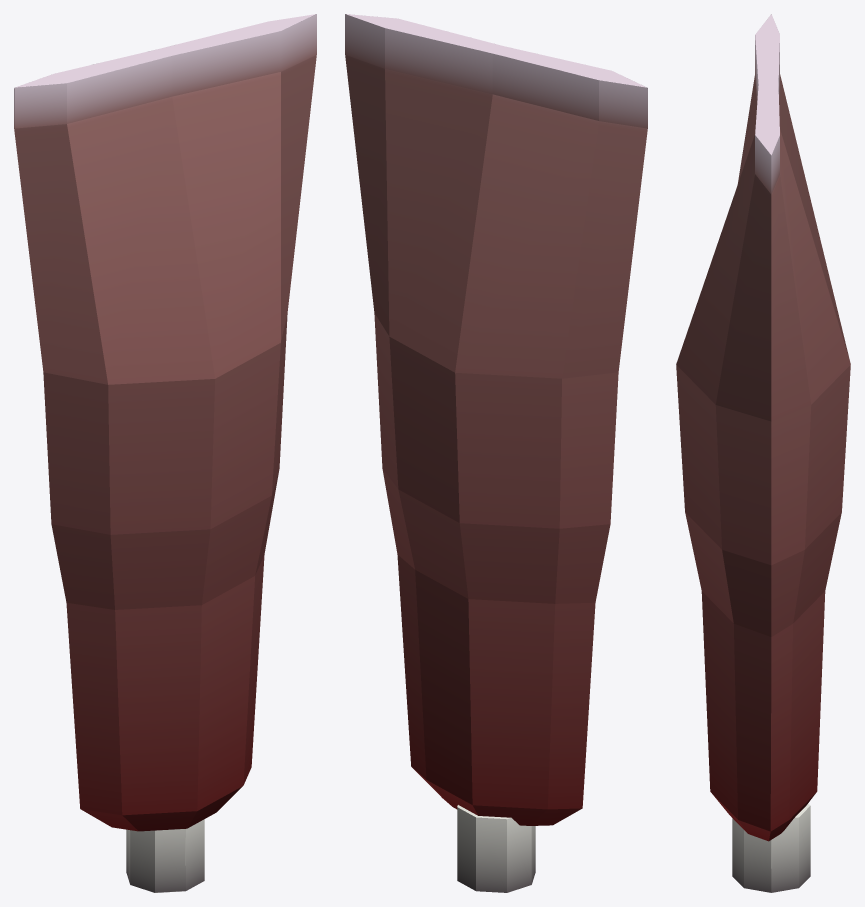
Rendered from Toothpaste.glb.
3 views of the same model, side by side, from view 1: azimuth 30°, elevation 25°; view 2: azimuth 150°, elevation 25°; view 3: azimuth 270°, elevation 25° (orthographic). The views are drawn at different scales.
Visible parts, largest first — view 1: Cylinder, Cylinder.001; view 2: Cylinder, Cylinder.001; view 3: Cylinder, Cylinder.001.
Part boxes in pixels (x1=…): Cylinder: x1=14, y1=14, x2=316, y2=831; Cylinder.001: x1=126, y1=819, x2=204, y2=892; Cylinder: x1=345, y1=14, x2=647, y2=825; Cylinder.001: x1=457, y1=805, x2=535, y2=892; Cylinder: x1=676, y1=14, x2=850, y2=841; Cylinder.001: x1=732, y1=803, x2=810, y2=892.
Bounding box in the file's own units: 3.06 × 7.96 × 1.59.
Materials: 2 (2 with a texture image).
